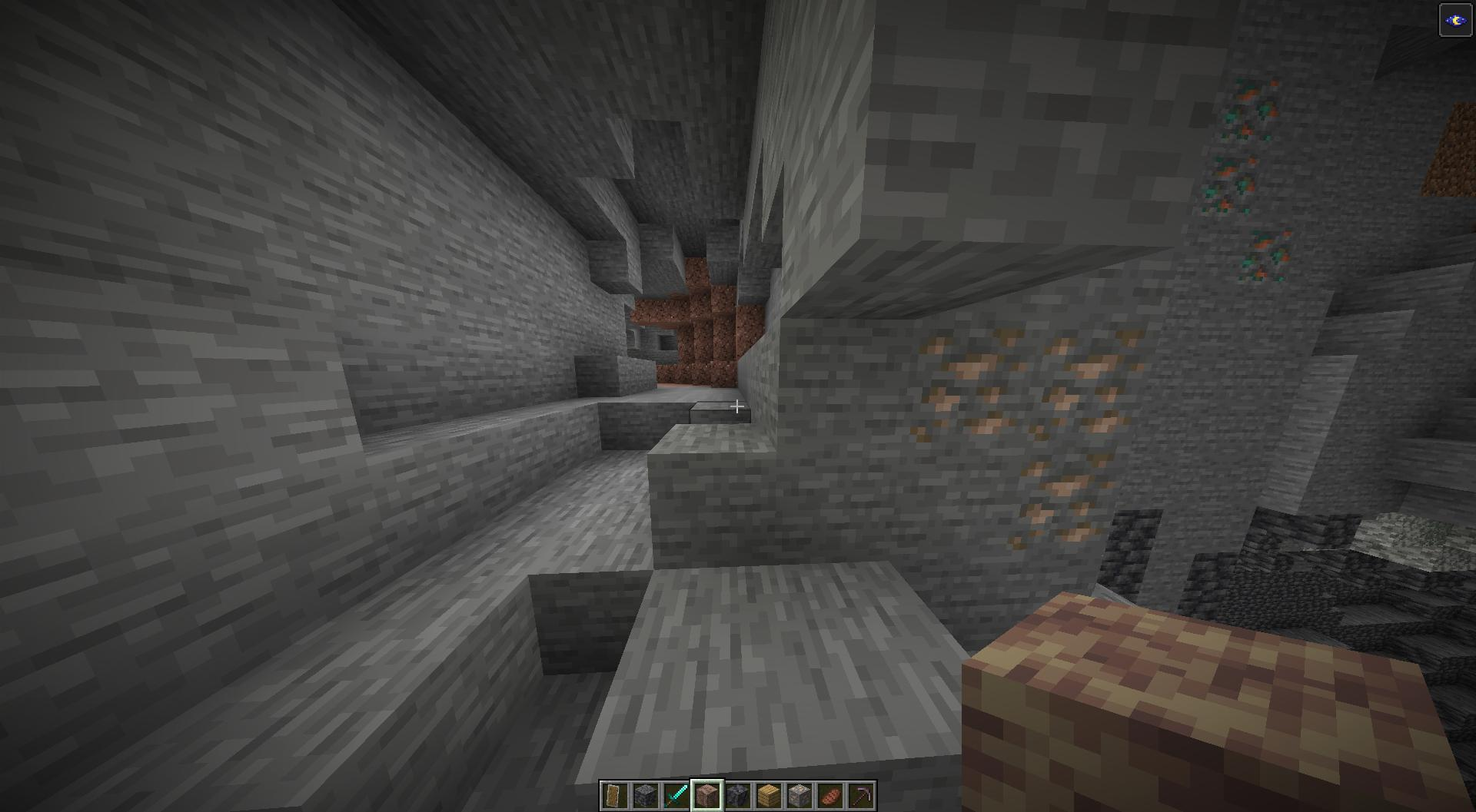iron ore: (1027, 313, 1137, 435), (910, 318, 1019, 440), (1017, 443, 1116, 559)
